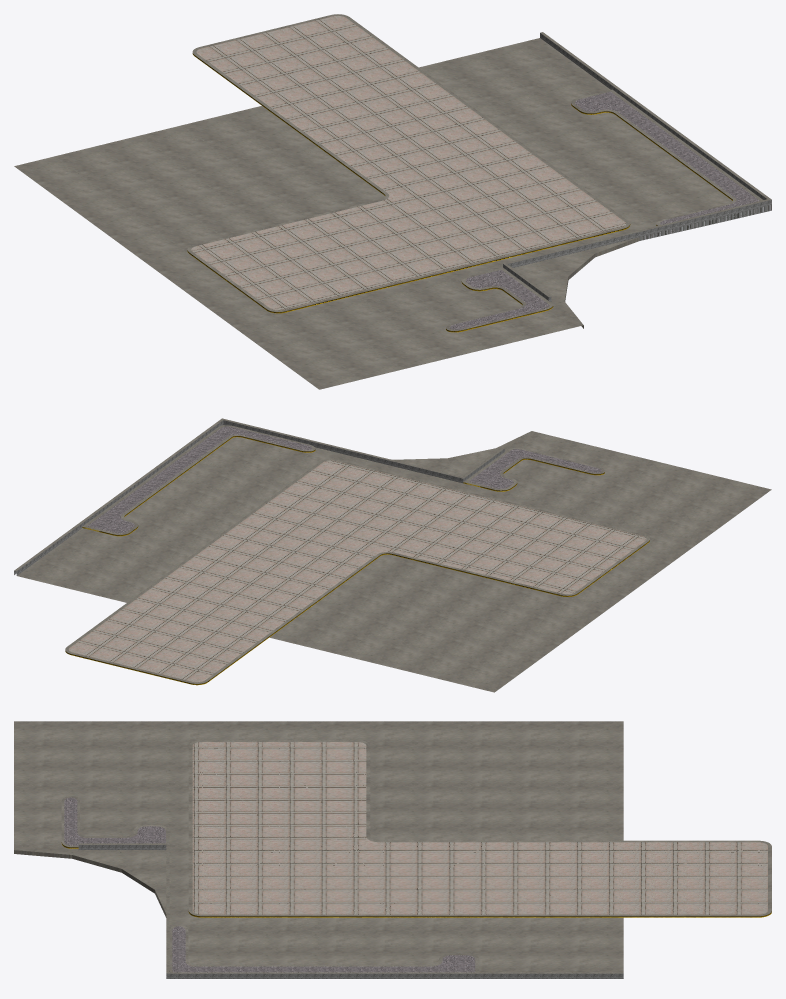
The model's file is vgseland37_lvs.obj.
3 renders of one model, top to bottom at view 1: azimuth 30°, elevation 25°; view 2: azimuth 150°, elevation 25°; view 3: azimuth 270°, elevation 25°, orthographic. The views are drawn at different scales.
Parts seen in each view (by area): view 1: vgsEland37_lvs; view 2: vgsEland37_lvs; view 3: vgsEland37_lvs.
Part boxes in pixels (left/top/right/bottom): vgsEland37_lvs: left=14, top=14, right=771, bottom=389; vgsEland37_lvs: left=14, top=418, right=771, bottom=692; vgsEland37_lvs: left=14, top=721, right=771, bottom=978.
Size of the model in its own units: 80 by 1.59 by 99.48.
5 materials, 5 textured.
